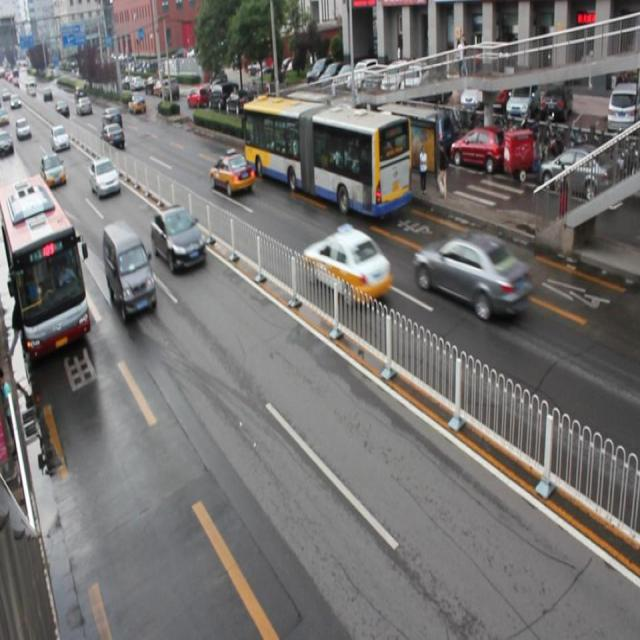car: (412, 227, 529, 319), (303, 225, 390, 302), (151, 205, 206, 270), (210, 146, 252, 193), (90, 158, 121, 199), (42, 152, 66, 187)
truck: (102, 218, 158, 320)
van: (242, 90, 410, 218), (1, 177, 90, 359)
